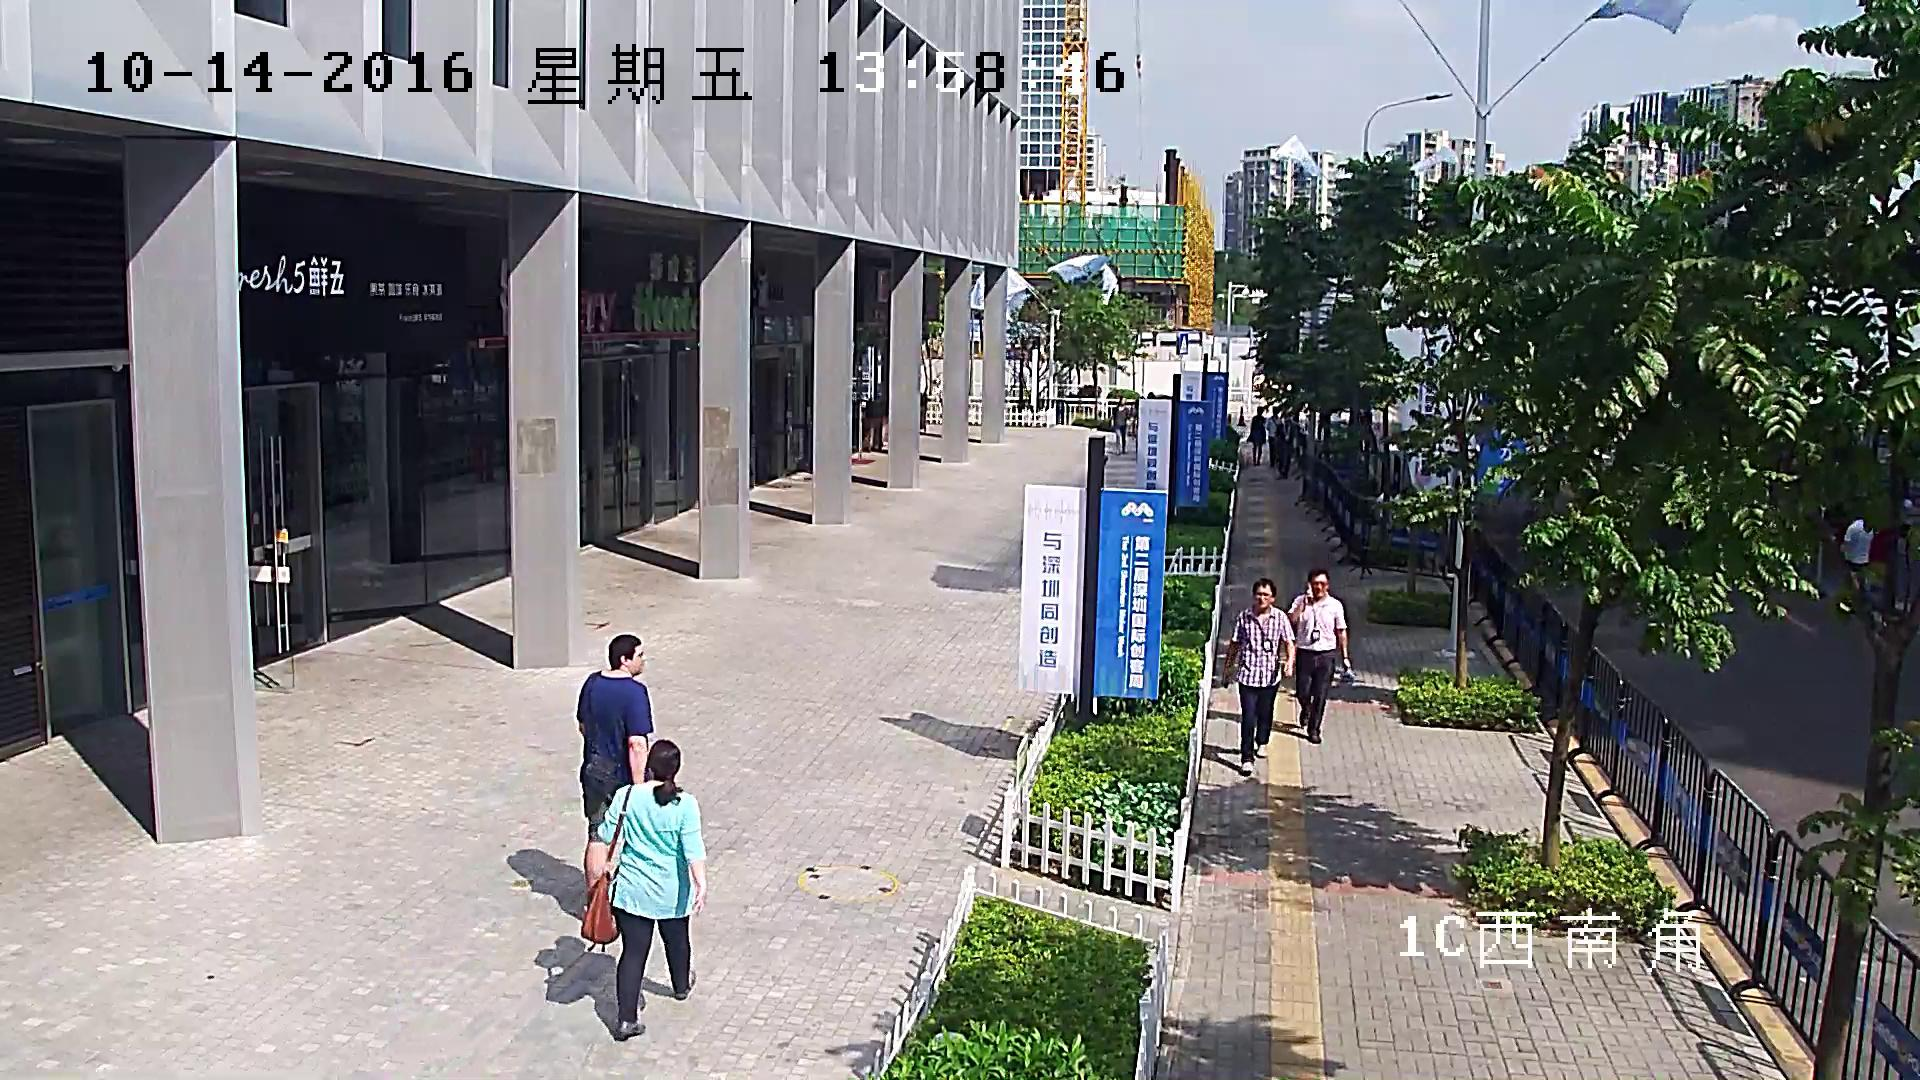person: (581, 740, 706, 1036), (576, 634, 653, 891), (1220, 577, 1294, 773), (1287, 568, 1350, 744), (1840, 519, 1876, 592), (1246, 406, 1267, 466), (1112, 397, 1130, 455), (1276, 415, 1294, 477), (1265, 406, 1282, 468)
